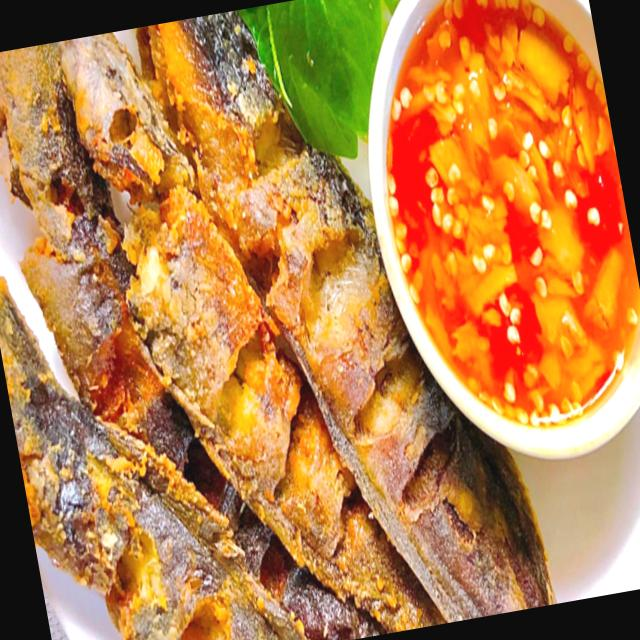ca chien: (138, 11, 553, 622), (58, 32, 445, 632), (0, 42, 386, 640), (0, 277, 308, 640)
nuoc mam: (387, 0, 640, 424)
